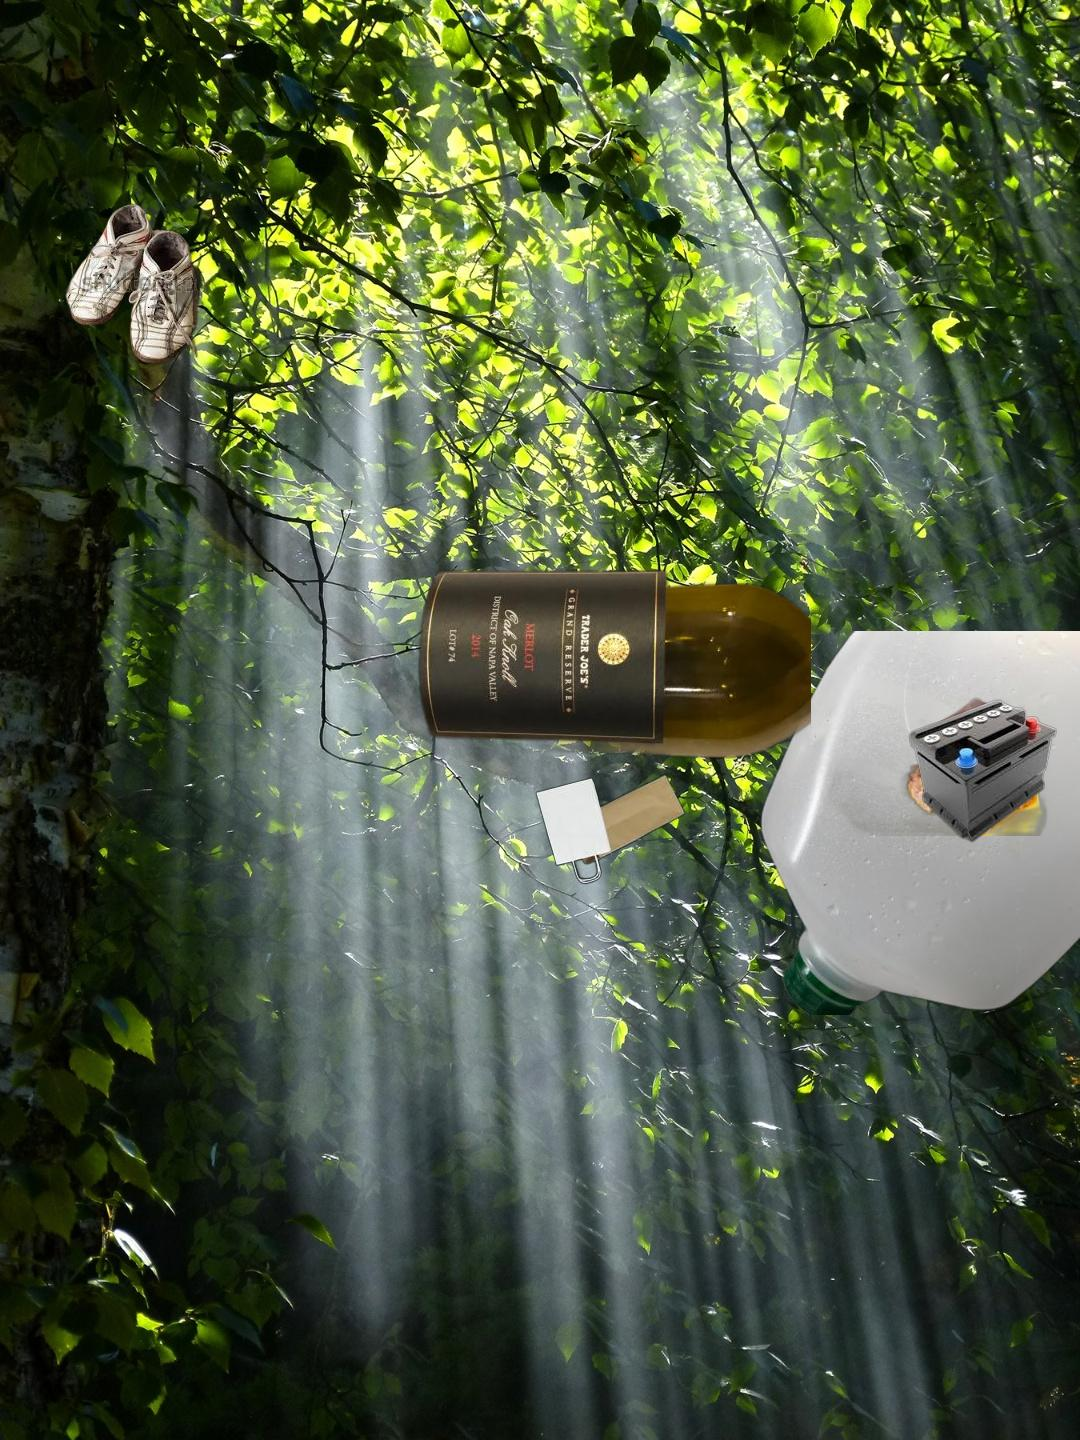battery: (906, 697, 1058, 845)
biological: (812, 697, 1080, 836)
glass: (315, 566, 811, 761)
paper-bag: (533, 771, 687, 886)
plastic-bottles: (756, 632, 1080, 1015)
shoes: (62, 201, 280, 386), (706, 1437, 950, 1440)
trashbox-cardboard: (968, 232, 1080, 617)
